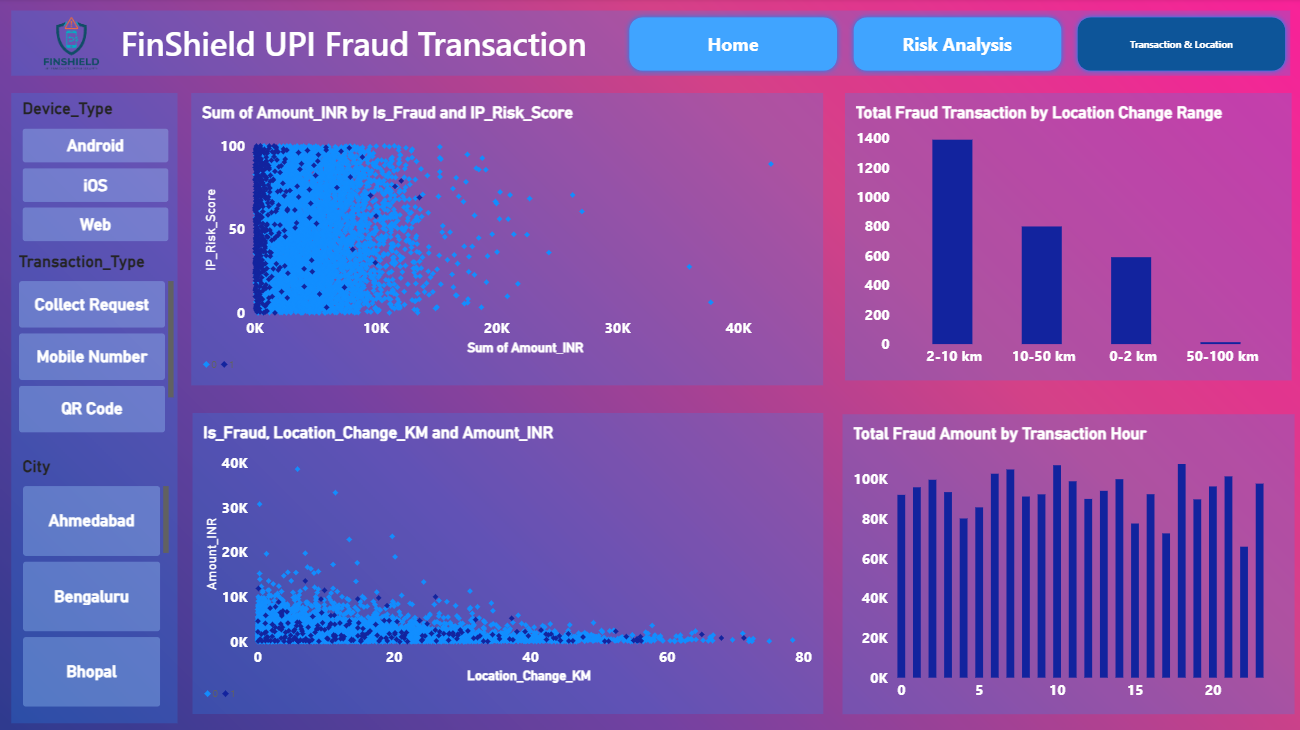

What the dashboard file says about the page in this screenshot:
{"tool":"powerbi","page":{"name":"Transaction & Location","canvas":[1920,1080],"ordinal":2},"visuals":[{"type":"shape","box":[16.6,139.9,244.8,927.6],"z":0},{"type":"textbox","box":[16.6,18.4,1882.8,95.7],"z":1000},{"type":"columnChart","fields":{"Y":["UPI_Fraud_Transaction_Cleaned.Total Fraud Transaction"],"Category":["UPI_Fraud_Transaction_Cleaned.Location Change Range"]},"box":[1244.4,140.7,657.9,423.3],"z":2000},{"type":"columnChart","fields":{"Y":["UPI_Fraud_Transaction_Cleaned.Total Fraud Amount"],"Category":["UPI_Fraud_Transaction_Cleaned.Transaction Hour"]},"box":[1240.9,612.5,665.7,441.5],"z":3000},{"type":"advancedSlicerVisual","fields":{"Values":["UPI_Fraud_Transaction_Cleaned.Device_Type"]},"box":[33.1,149.1,215.3,209.8],"z":4000},{"type":"advancedSlicerVisual","fields":{"Values":["UPI_Fraud_Transaction_Cleaned.Transaction_Type"]},"box":[27.6,373.6,228.2,266.9],"z":5000},{"type":"advancedSlicerVisual","fields":{"Values":["UPI_Fraud_Transaction_Cleaned.City"]},"box":[33.1,675.5,215.3,369.9],"z":6000},{"type":"image","box":[0,10.8,209.9,110.4],"z":7000},{"type":"scatterChart","fields":{"Y":["Sum(UPI_Fraud_Transaction_Cleaned.IP_Risk_Score)"],"Series":["UPI_Fraud_Transaction_Cleaned.Is_Fraud"],"X":["Sum(UPI_Fraud_Transaction_Cleaned.Amount_INR)"]},"box":[281.3,140.7,930.6,430.2],"z":8000},{"type":"scatterChart","fields":{"Series":["UPI_Fraud_Transaction_Cleaned.Is_Fraud"],"X":["Sum(UPI_Fraud_Transaction_Cleaned.Location_Change_KM)"],"Y":["Sum(UPI_Fraud_Transaction_Cleaned.Amount_INR)"]},"box":[283.5,610.7,928.4,443.2],"z":9000},{"type":"pageNavigator","box":[917.6,19.5,982.5,95.2],"z":10000}]}

Visuals, with their boxes in screenshot pixels (x1, y1, x2, y2), scaled from the page's 1920x1080 canvas onto the 1300x730 screenshot:
shape: Rect(11, 95, 177, 722)
textbox: Rect(11, 12, 1286, 77)
columnChart - UPI_Fraud_Transaction_Cleaned.Total Fraud Transaction x UPI_Fraud_Transaction_Cleaned.Location Change Range: Rect(843, 95, 1288, 381)
columnChart - UPI_Fraud_Transaction_Cleaned.Total Fraud Amount x UPI_Fraud_Transaction_Cleaned.Transaction Hour: Rect(840, 414, 1291, 712)
advancedSlicerVisual - UPI_Fraud_Transaction_Cleaned.Device_Type: Rect(22, 101, 168, 243)
advancedSlicerVisual - UPI_Fraud_Transaction_Cleaned.Transaction_Type: Rect(19, 253, 173, 433)
advancedSlicerVisual - UPI_Fraud_Transaction_Cleaned.City: Rect(22, 457, 168, 707)
image: Rect(0, 7, 142, 82)
scatterChart - Sum(UPI_Fraud_Transaction_Cleaned.IP_Risk_Score) x UPI_Fraud_Transaction_Cleaned.Is_Fraud: Rect(190, 95, 821, 386)
scatterChart - UPI_Fraud_Transaction_Cleaned.Is_Fraud x Sum(UPI_Fraud_Transaction_Cleaned.Location_Change_KM): Rect(192, 413, 821, 712)
pageNavigator: Rect(621, 13, 1287, 78)
